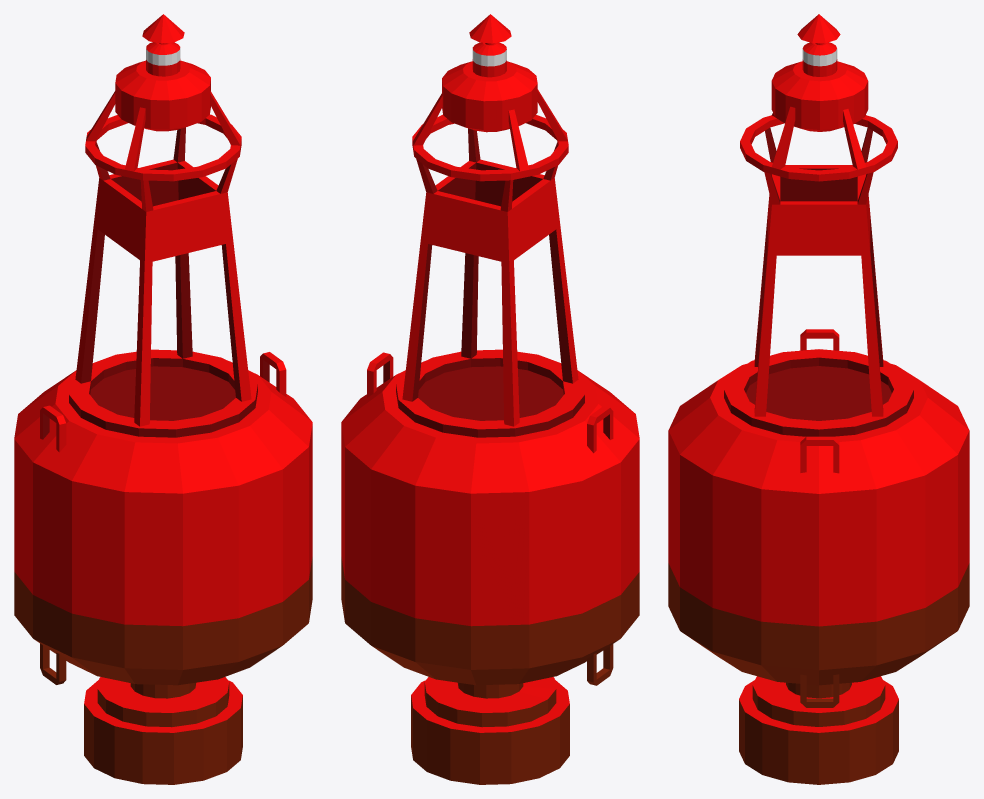
Rendered from buoy_lowpoly_fbx.fbx.
3 renders of one model, left to right at view 1: azimuth 30°, elevation 25°; view 2: azimuth 150°, elevation 25°; view 3: azimuth 270°, elevation 25°, orthographic.
Parts seen in each view (by area): view 1: buoy_lowpoly; view 2: buoy_lowpoly; view 3: buoy_lowpoly.
Part boxes in pixels (x1,y1,x2,y2): buoy_lowpoly: (14,14,312,784); buoy_lowpoly: (341,14,639,784); buoy_lowpoly: (668,14,969,784).
Bounding box in the file's own units: 595 × 1608 × 595.
Materials: 1 (1 with a texture image).
